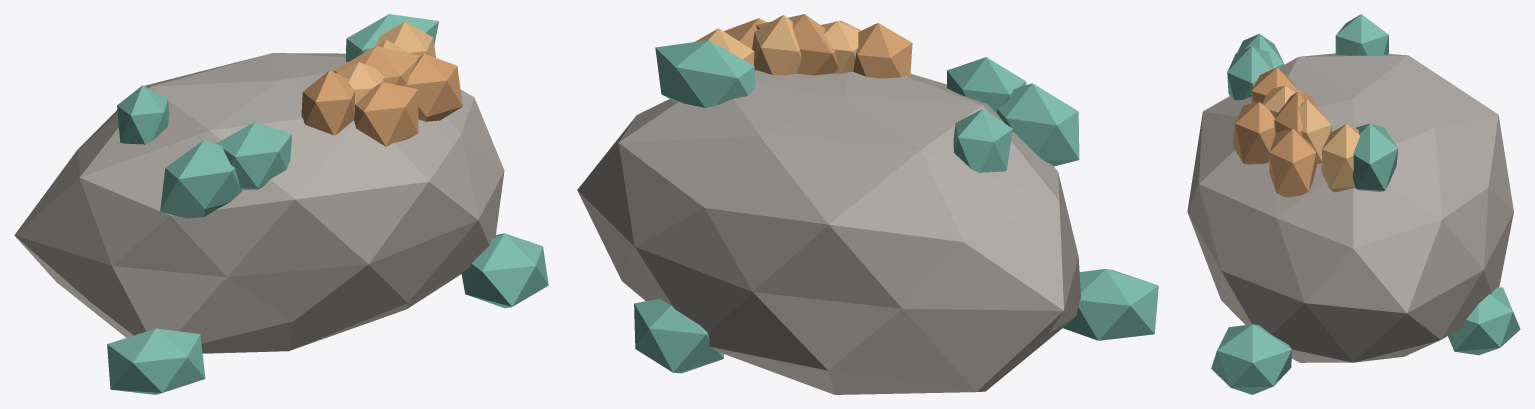
Rendered from cave_detail_ore_copper.glb.
The picture shows the model from 3 angles, left to right: view 1: azimuth 30°, elevation 25°; view 2: azimuth 150°, elevation 25°; view 3: azimuth 270°, elevation 25°; orthographic projection. The views are drawn at different scales.
Parts seen in each view (by area): view 1: Weathered ore boulder, Loose ore chip, Loose ore chip.001, Exposed mineral seam 03, Exposed mineral seam 00, Exposed mineral seam 07, Exposed mineral seam 01, Exposed mineral seam 04, Exposed mineral seam 06, Exposed mineral seam 09, Exposed mineral seam 10, Exposed mineral seam 02 (+1 smaller); view 2: Weathered ore boulder, Exposed mineral seam 09, Loose ore chip, Exposed mineral seam 03, Loose ore chip.002, Exposed mineral seam 06, Exposed mineral seam 04, Exposed mineral seam 00, Exposed mineral seam 05, Exposed mineral seam 10, Exposed mineral seam 08, Exposed mineral seam 02 (+1 smaller); view 3: Weathered ore boulder, Loose ore chip.001, Loose ore chip.002, Exposed mineral seam 01, Exposed mineral seam 09, Exposed mineral seam 07, Exposed mineral seam 02, Exposed mineral seam 06, Exposed mineral seam 00, Exposed mineral seam 05, Exposed mineral seam 10, Exposed mineral seam 04 (+2 smaller).
Boxes of the visible parts, <box> form: Weathered ore boulder: <box>14,53,504,353</box>; Loose ore chip: <box>107,328,205,394</box>; Loose ore chip.001: <box>461,233,548,308</box>; Exposed mineral seam 03: <box>160,140,242,218</box>; Exposed mineral seam 00: <box>216,121,291,189</box>; Exposed mineral seam 07: <box>354,82,418,146</box>; Exposed mineral seam 01: <box>404,53,462,121</box>; Exposed mineral seam 04: <box>301,70,354,135</box>; Exposed mineral seam 06: <box>117,85,169,144</box>; Exposed mineral seam 09: <box>346,14,438,61</box>; Exposed mineral seam 10: <box>334,46,420,86</box>; Exposed mineral seam 02: <box>375,21,435,57</box>; Weathered ore boulder: <box>577,70,1080,394</box>; Exposed mineral seam 09: <box>655,40,755,107</box>; Loose ore chip: <box>1063,269,1158,340</box>; Exposed mineral seam 03: <box>997,83,1079,166</box>; Loose ore chip.002: <box>634,299,723,373</box>; Exposed mineral seam 06: <box>953,109,1012,173</box>; Exposed mineral seam 04: <box>853,23,912,78</box>; Exposed mineral seam 00: <box>947,57,1026,113</box>; Exposed mineral seam 05: <box>752,15,801,75</box>; Exposed mineral seam 10: <box>756,14,838,75</box>; Exposed mineral seam 08: <box>823,21,859,73</box>; Exposed mineral seam 02: <box>695,28,754,65</box>; Weathered ore boulder: <box>1187,53,1513,362</box>; Loose ore chip.001: <box>1211,324,1291,394</box>; Loose ore chip.002: <box>1448,287,1520,355</box>; Exposed mineral seam 01: <box>1269,128,1316,197</box>; Exposed mineral seam 09: <box>1352,123,1398,191</box>; Exposed mineral seam 07: <box>1233,102,1275,164</box>; Exposed mineral seam 02: <box>1321,124,1359,192</box>; Exposed mineral seam 06: <box>1335,14,1388,55</box>; Exposed mineral seam 00: <box>1227,46,1273,100</box>; Exposed mineral seam 05: <box>1298,99,1331,164</box>; Exposed mineral seam 10: <box>1274,92,1316,136</box>; Exposed mineral seam 04: <box>1251,67,1297,103</box>.
Bounding box in the file's own units: 1.98 × 1.21 × 1.33.
